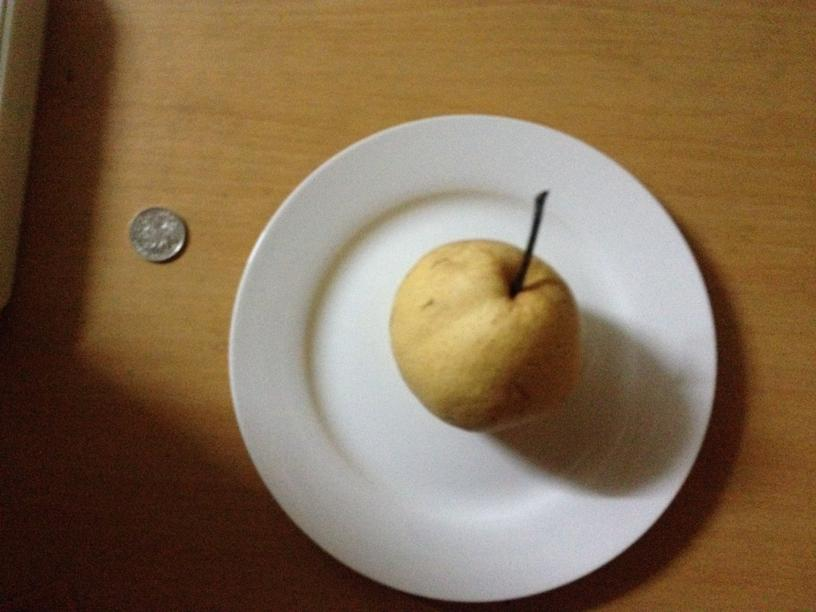coin: (126, 204, 189, 263)
pear: (389, 235, 582, 434)
